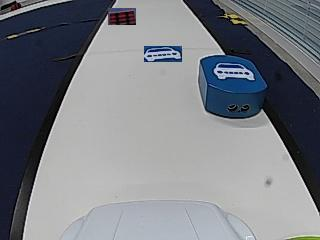safety: (212, 62, 255, 81)
